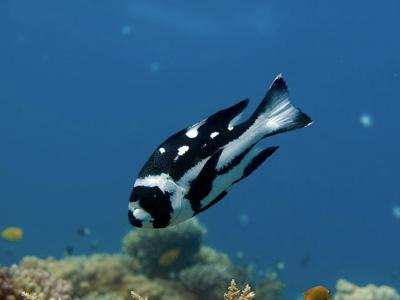Lutjanidae -Snappers-: (119, 68, 323, 237)
